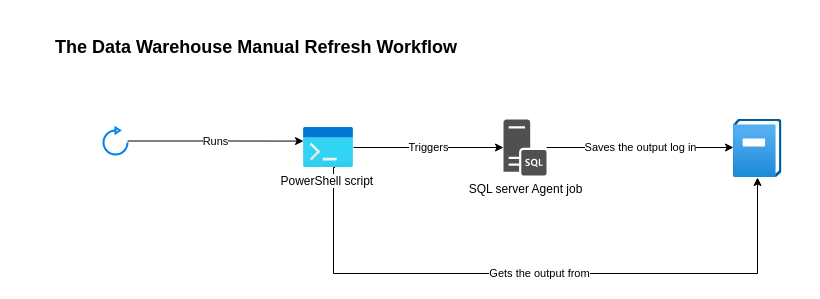
Image size: 820x299. Some labels were removed from this diagram. Here are the shapes that lost their labels. From the top down, the centre of each, then its label:
At (115,140): "Refresh the data warehouse shortcut".
At (757,148): "agent_output.log".
